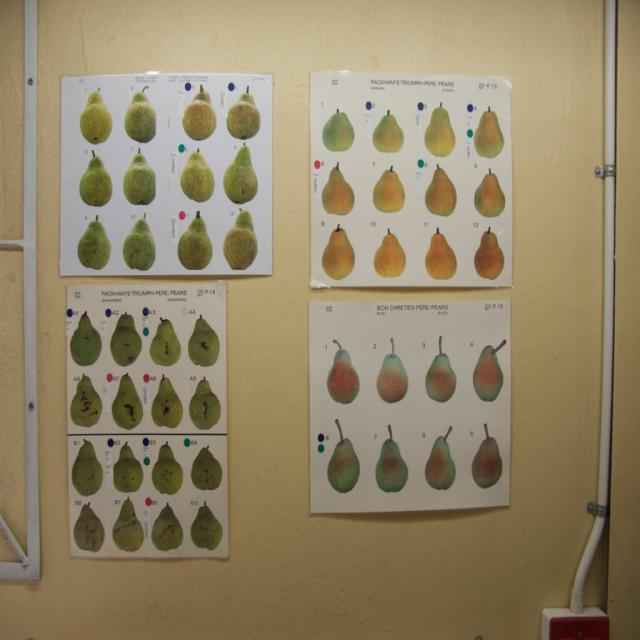pear: (220, 142, 258, 208), (178, 203, 214, 270), (328, 412, 358, 492), (472, 332, 507, 399), (326, 332, 359, 403), (374, 421, 408, 489), (469, 420, 503, 488), (424, 332, 456, 403), (177, 147, 215, 206), (224, 208, 260, 270), (319, 221, 357, 279), (72, 433, 105, 497), (145, 437, 182, 494), (80, 84, 114, 146), (122, 144, 156, 206), (426, 424, 458, 489), (78, 147, 112, 208), (378, 332, 407, 403), (76, 213, 112, 270), (110, 373, 146, 430), (422, 226, 458, 282), (182, 85, 217, 142), (126, 82, 158, 143), (320, 157, 356, 211), (124, 212, 157, 270), (228, 84, 262, 140), (187, 312, 222, 366), (110, 498, 142, 557), (473, 222, 505, 281), (69, 370, 102, 427), (109, 312, 143, 366), (150, 373, 184, 427), (472, 165, 506, 217), (374, 225, 408, 277), (426, 160, 457, 217), (372, 162, 406, 213), (152, 498, 182, 554), (424, 100, 454, 156), (70, 311, 100, 366), (112, 437, 142, 491), (190, 376, 221, 427), (192, 502, 224, 551), (371, 106, 405, 152), (150, 314, 180, 366), (191, 439, 221, 491), (320, 106, 356, 149), (473, 107, 503, 158), (74, 502, 104, 552)
